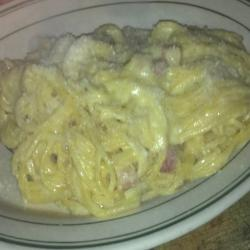carbonara: (2, 17, 250, 218)
